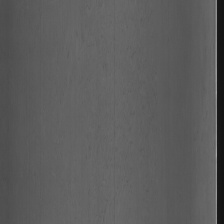silk_spot: (88, 40, 156, 187)
